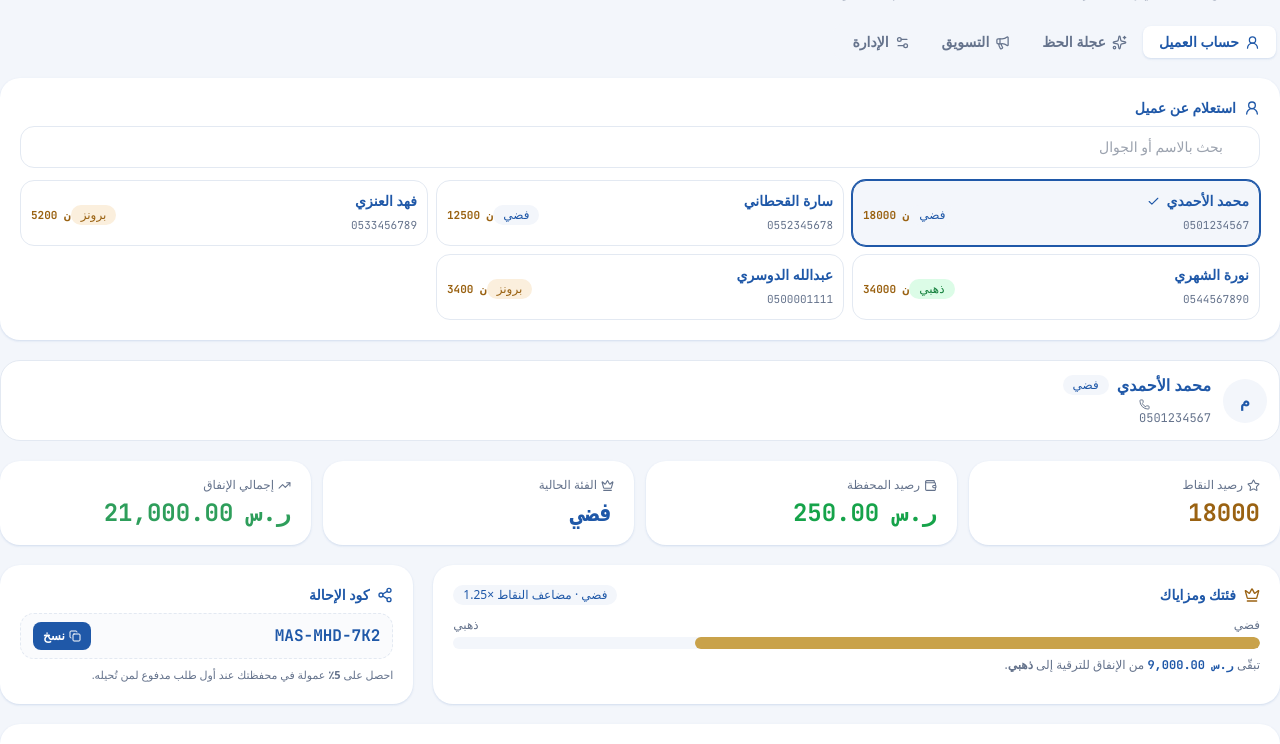
Test: loyalty edit forms open with the item values › wheel prize edit is prefilled
The width and height of the screenshot is (1280, 744).
Click the button "الإدارة".
click(881, 42)  # box [836,26,926,58]
(page scrolled)
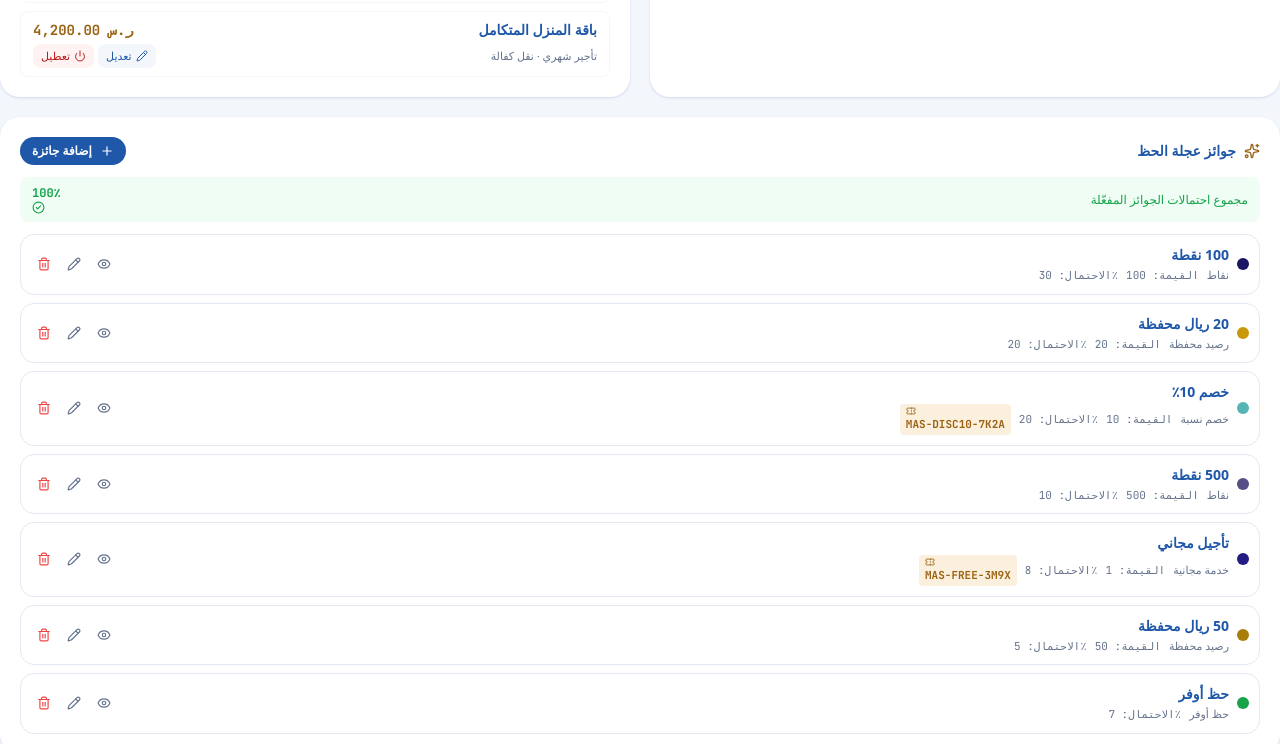
expect the text "500 نقطة" is shown: met, box [1171,464,1229,484]
seed order: w1..w7 — '500 نقطة' is the 4th prize
Click the button named "تعديل" in the row of "500 نقطة".
click(74, 484)  # box [61,471,87,497]
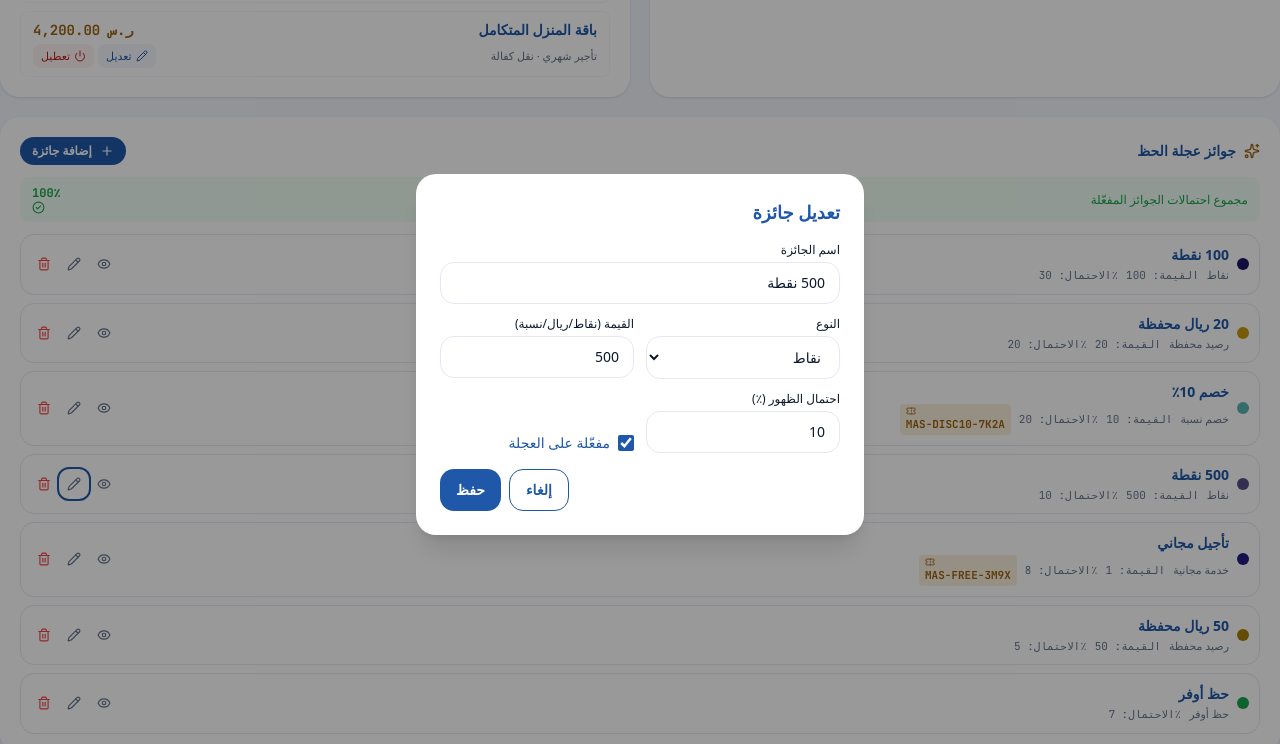
expect the field showing "500 نقطة" below "اسم الجائزة" is shown: met, box [440,262,840,304]
